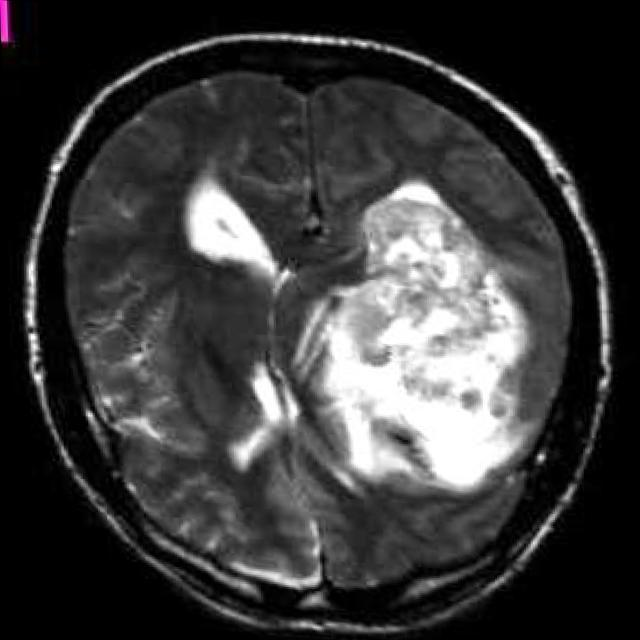Tumor: (291, 172, 527, 481)
